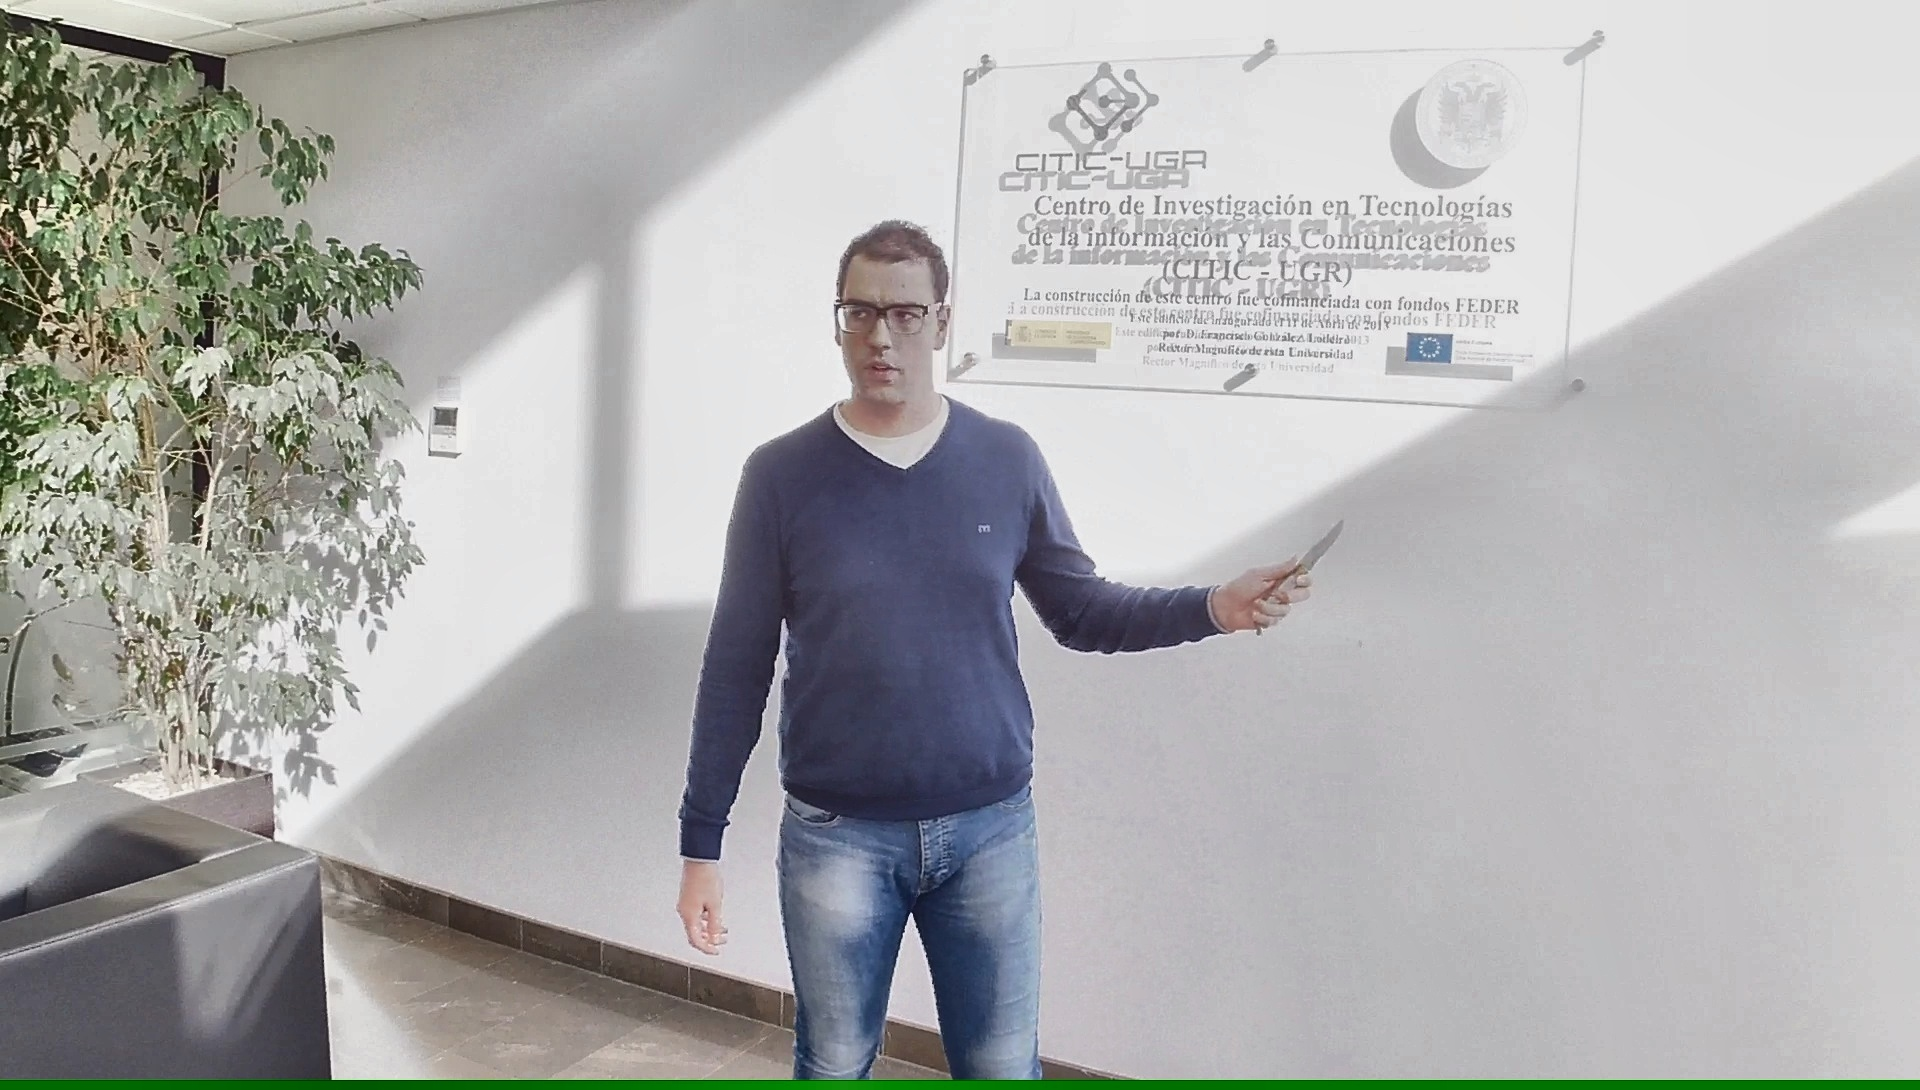knife: (1249, 509, 1354, 641)
